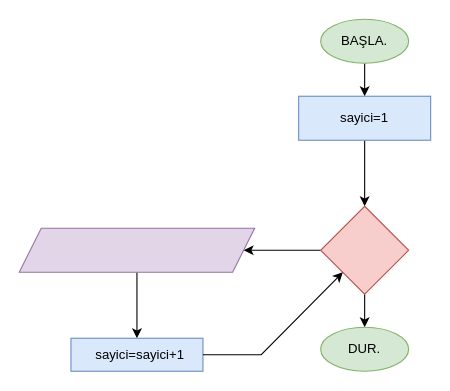
The diagram is 450 pixels wide and 391 high, and some of its shapes have lost their labels. Here are the shapes that lost their labels. From the top down, the centre of each, then its label:
point 136,249: ekrana"merhaba geliştirici"yaz
point 364,249: sayici<=3
